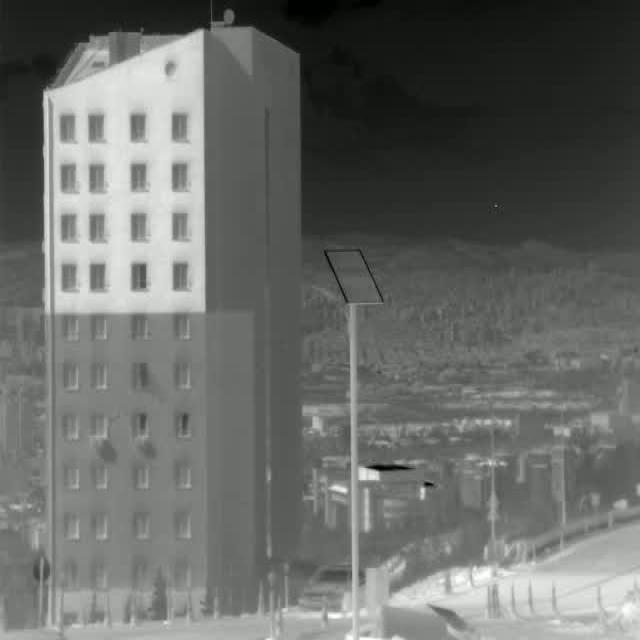Car: (298, 562, 366, 617)
